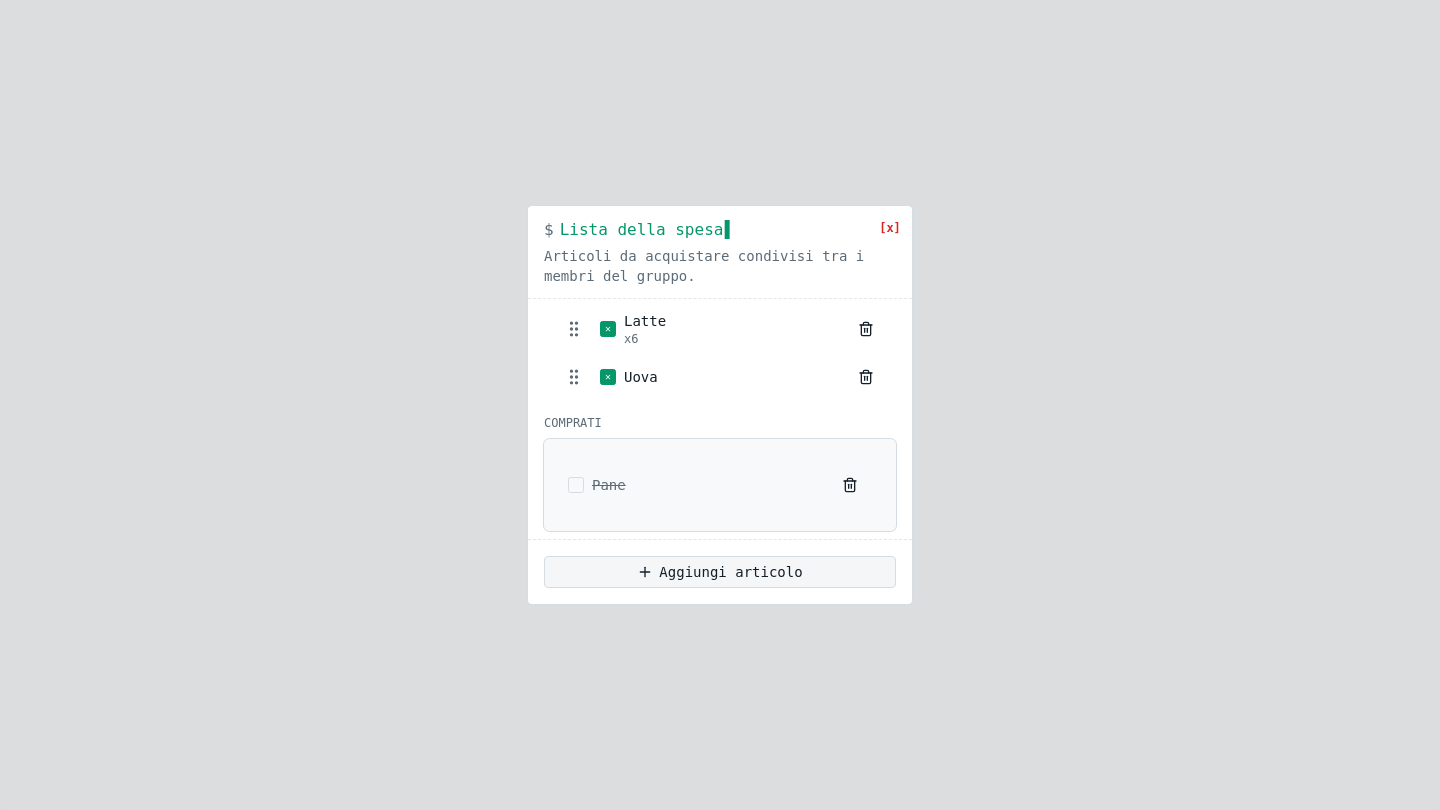
Test: ShoppingListDialog › annulla la conferma inline senza eliminare
Click the button named "Elimina Uova".
click(866, 377)  # box left=844, top=355, right=888, bottom=399
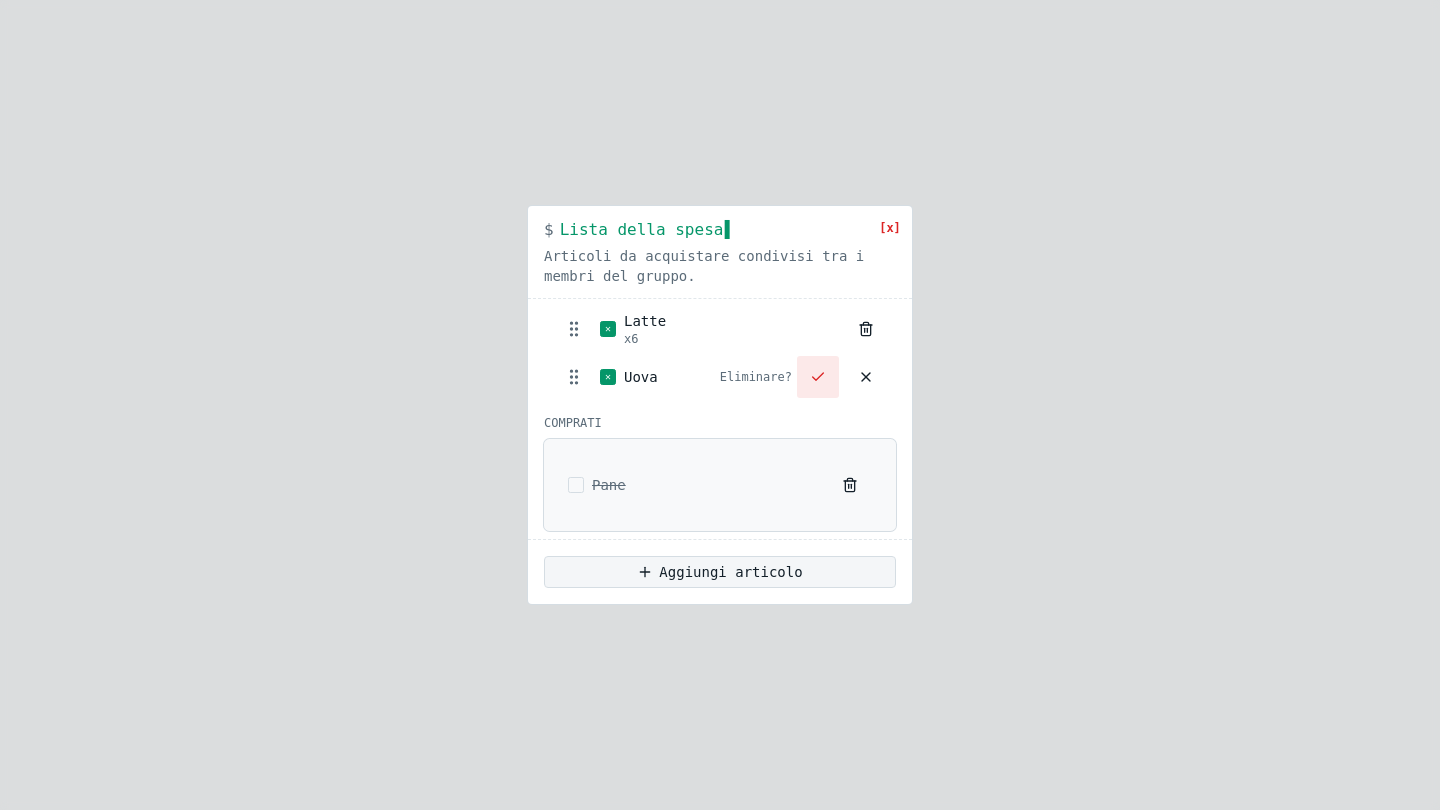
Click the button named "Annulla eliminazione Uova".
click(866, 377)  # box left=844, top=355, right=888, bottom=399
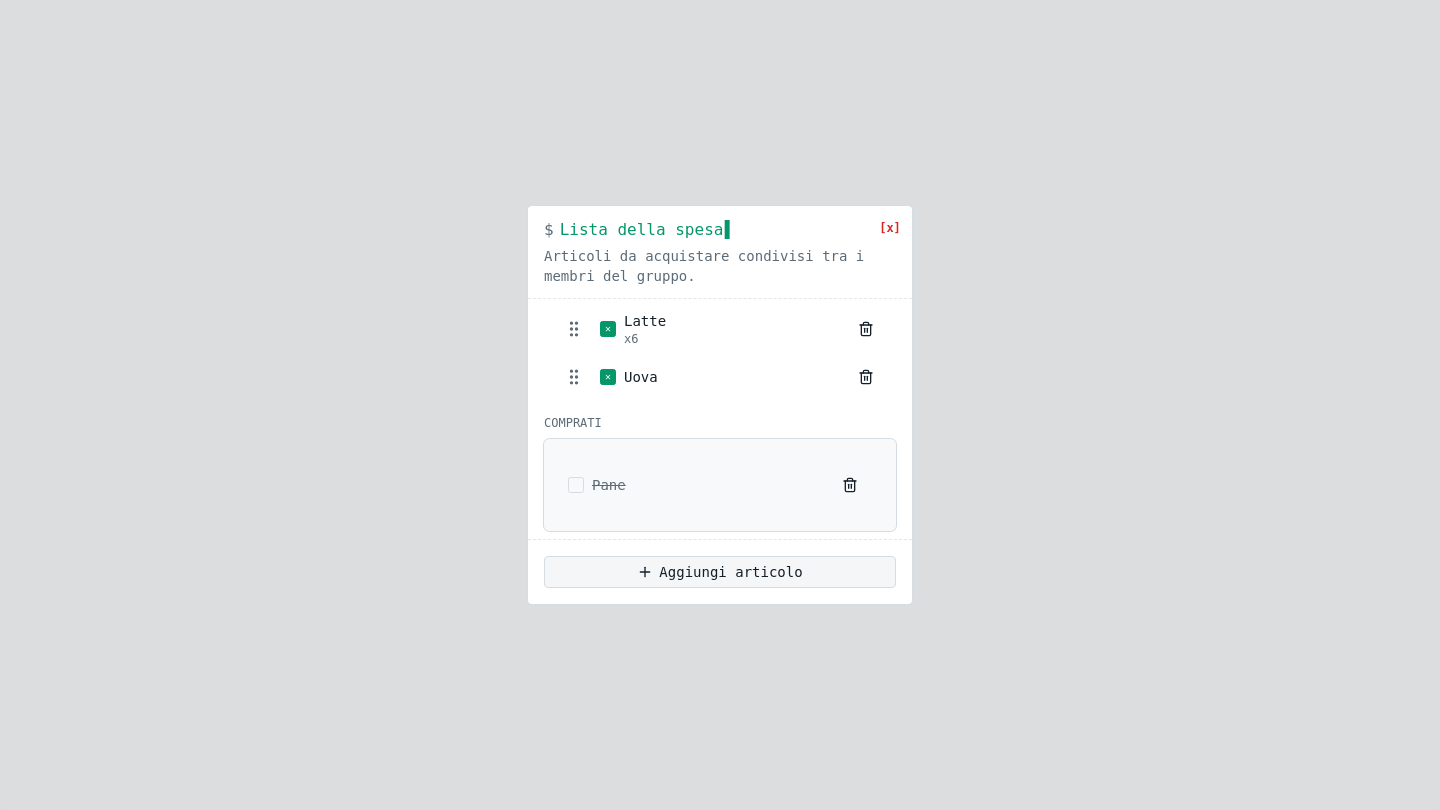
Check: the button named "Elimina Uova" is shown, box left=844, top=355, right=888, bottom=399
